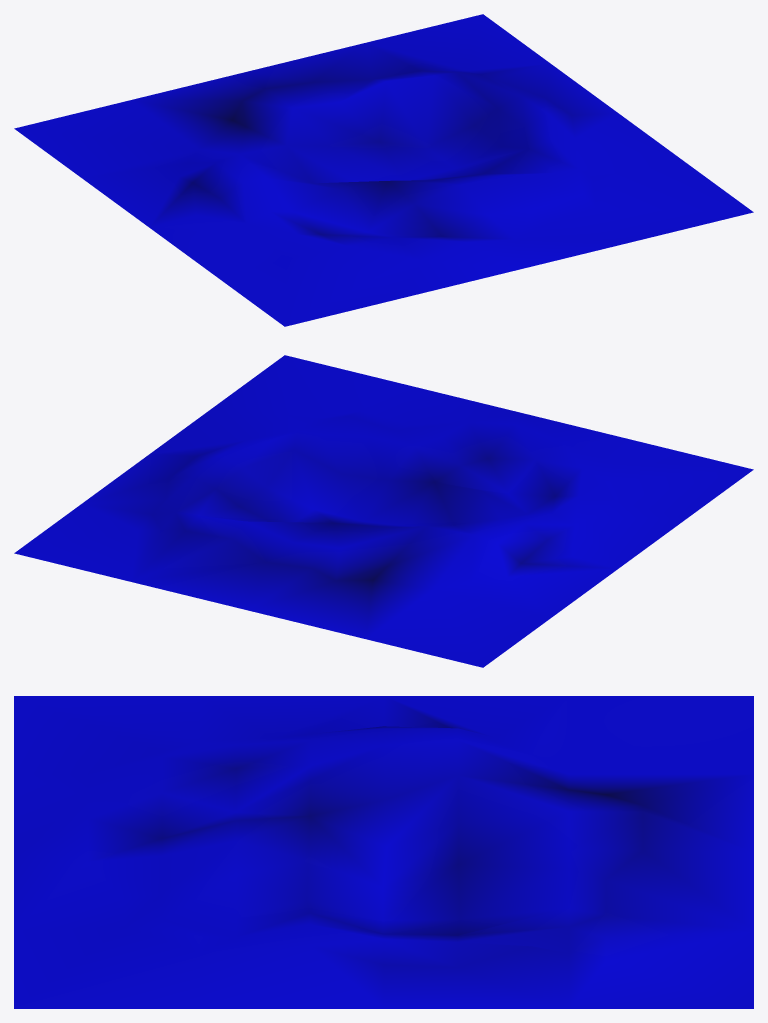
The model's file is WaterBottom00B Background.fbx.
The picture shows the model from 3 angles, top to bottom: view 1: azimuth 30°, elevation 25°; view 2: azimuth 150°, elevation 25°; view 3: azimuth 270°, elevation 25°; orthographic projection. The views are drawn at different scales.
Parts seen in each view (by area): view 1: WaterBottom00B Background; view 2: WaterBottom00B Background; view 3: WaterBottom00B Background.
Boxes of the visible parts, left/top/right/bottom form: WaterBottom00B Background: left=14, top=14, right=753, bottom=326; WaterBottom00B Background: left=14, top=355, right=753, bottom=667; WaterBottom00B Background: left=14, top=696, right=753, bottom=1008.
Size of the model in its own units: 4 by 0.3274 by 4.
